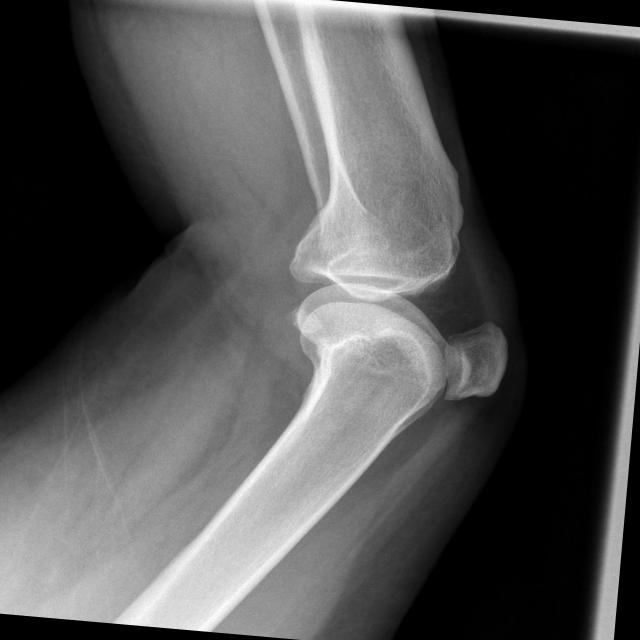Knee: (272, 186, 522, 406)
